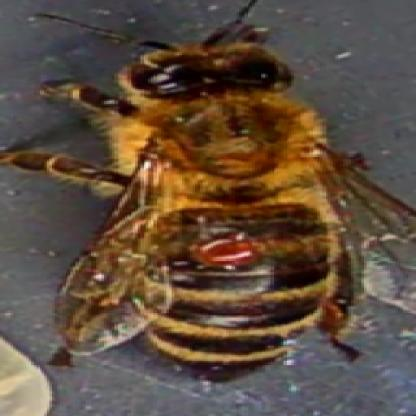bee: (113, 42, 340, 380)
vaoora: (203, 238, 259, 264)
